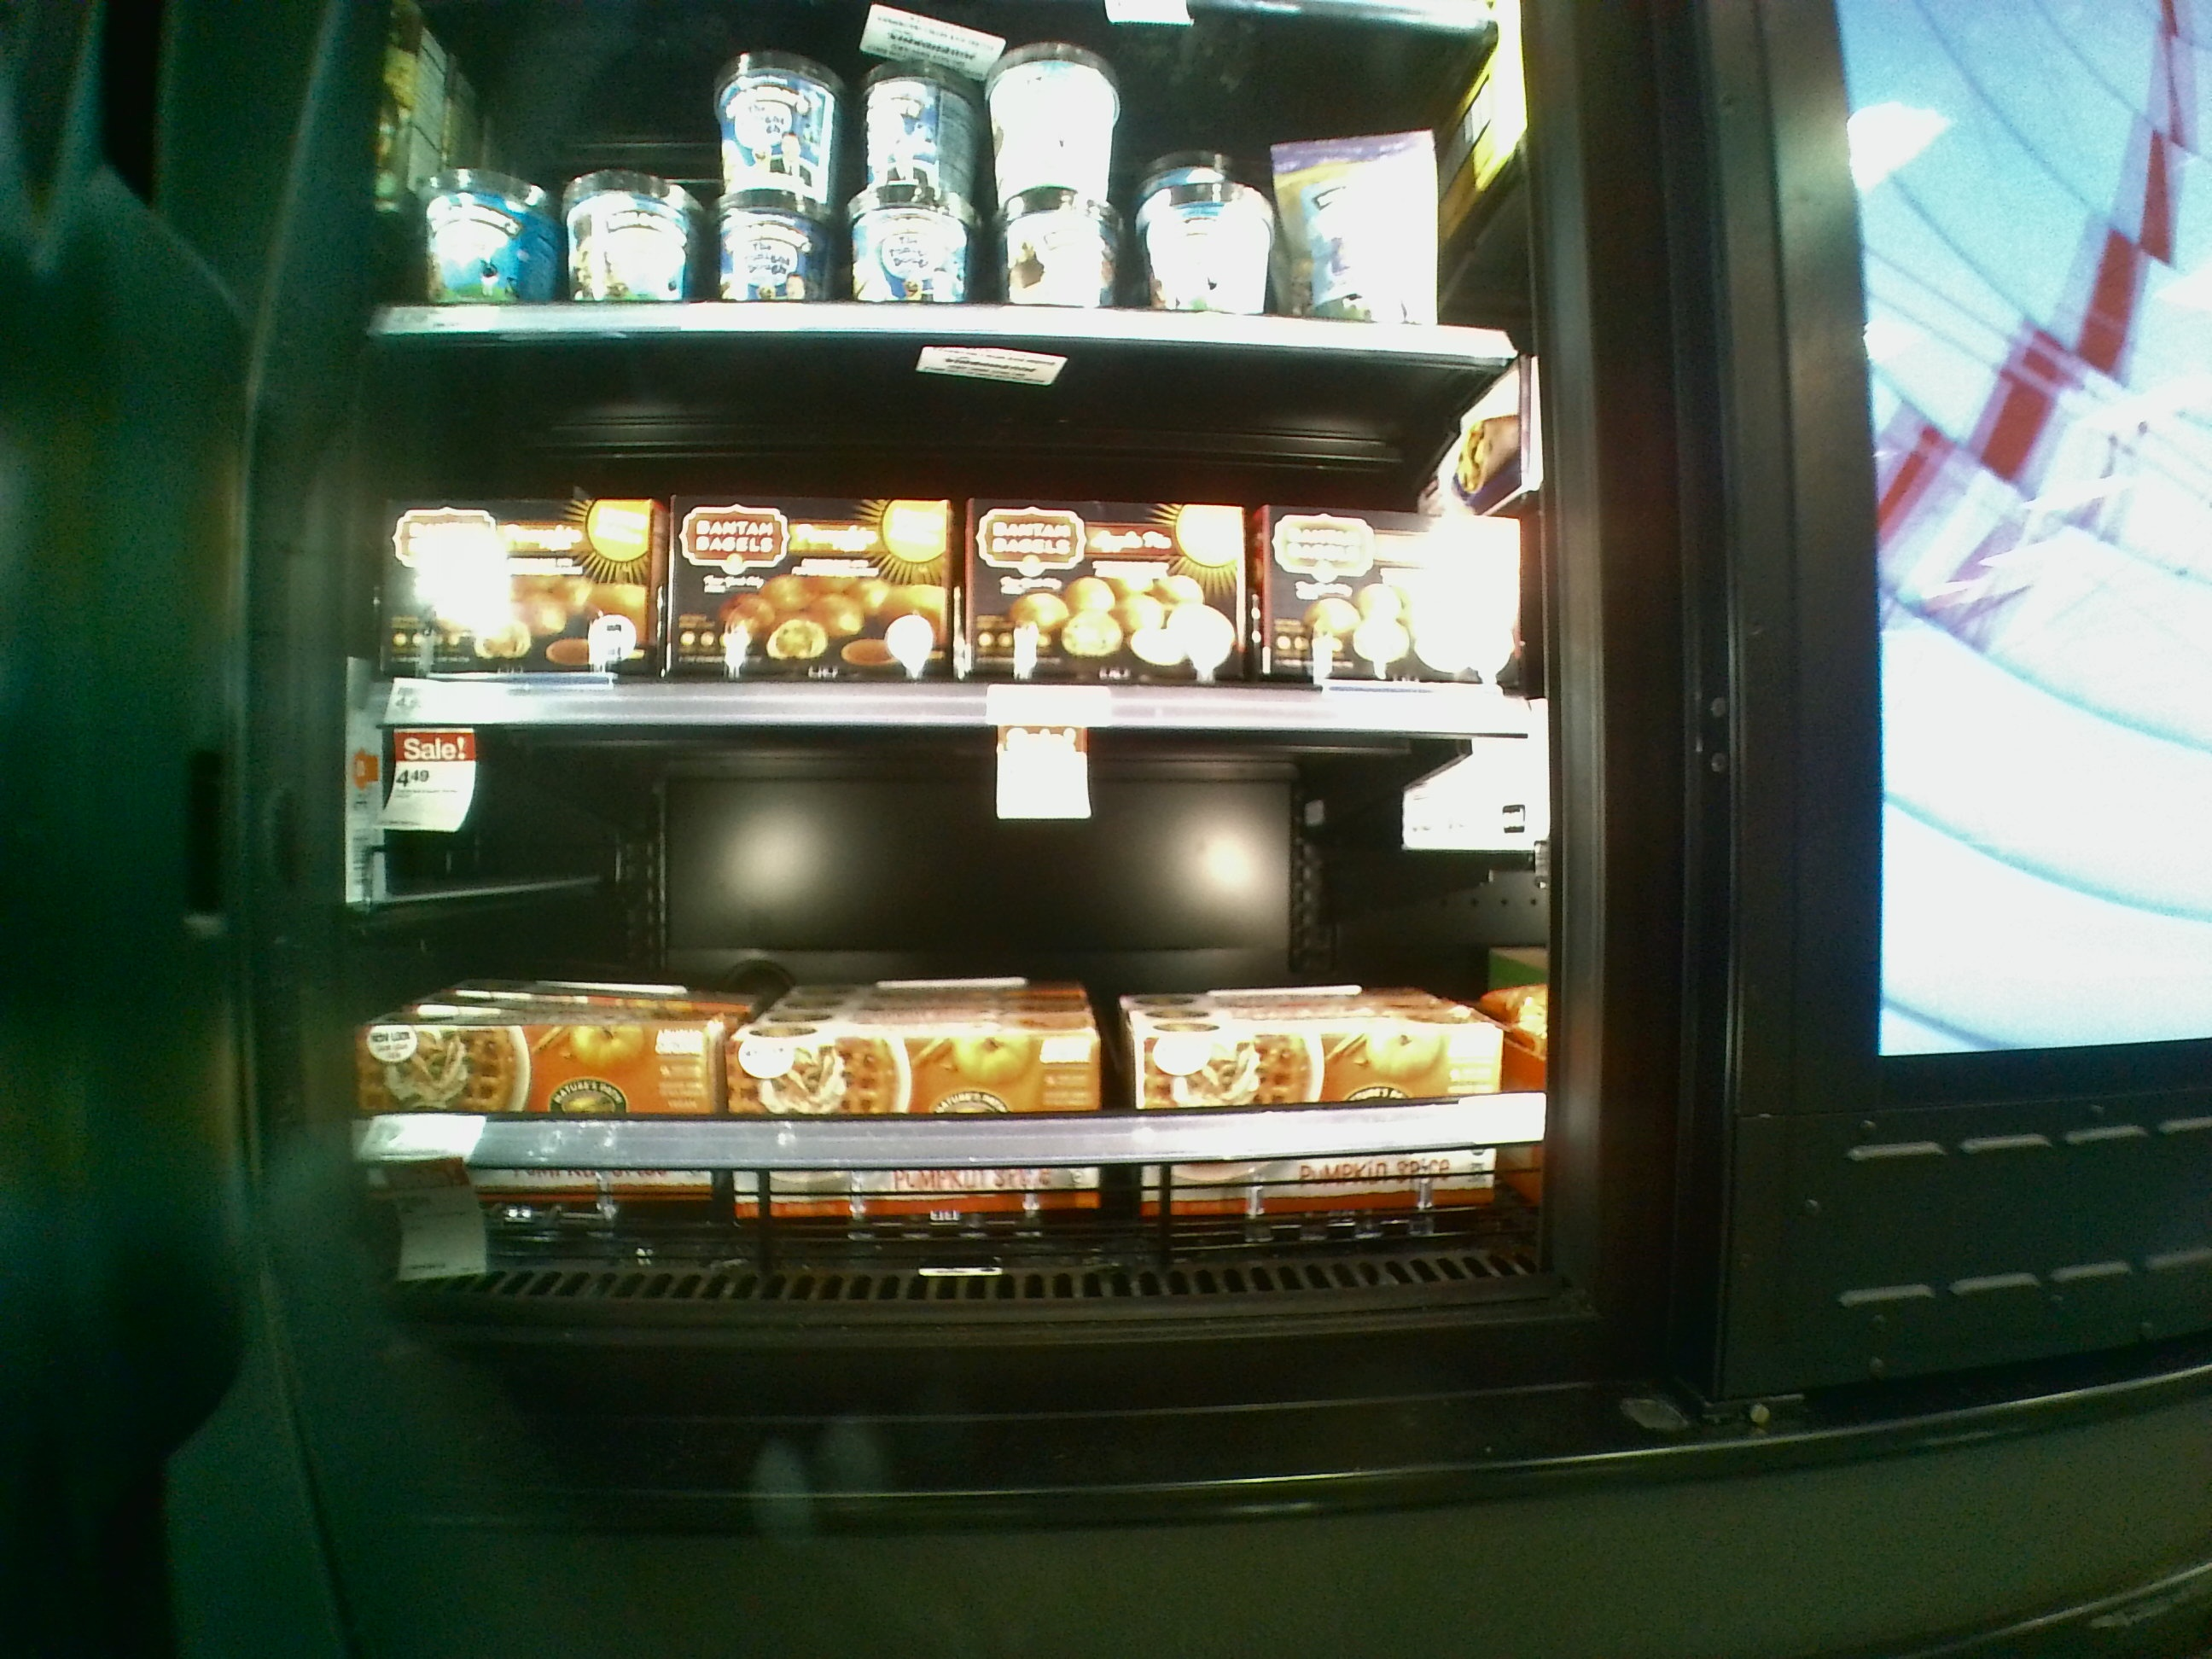shelf: (296, 718, 1578, 1347), (324, 331, 1561, 732)
